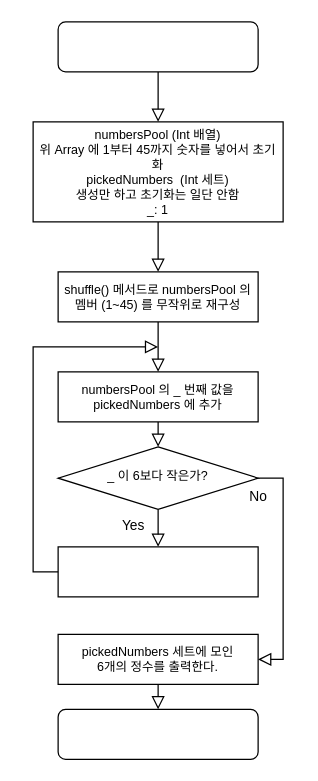
The diagram is 318 pixels wide and 781 high, and some of its shapes have lost their labels. The shapes that lost their labels are listed below. From the top down, each one's centre as x and y in pixels, then its label:
At pixel 157 46: "pickLottoNumbers 함수 시작".
At pixel 157 571: "_ 에 1 을 더한다.".
At pixel 157 733: "pickLottoNumbers 함수 끝".
